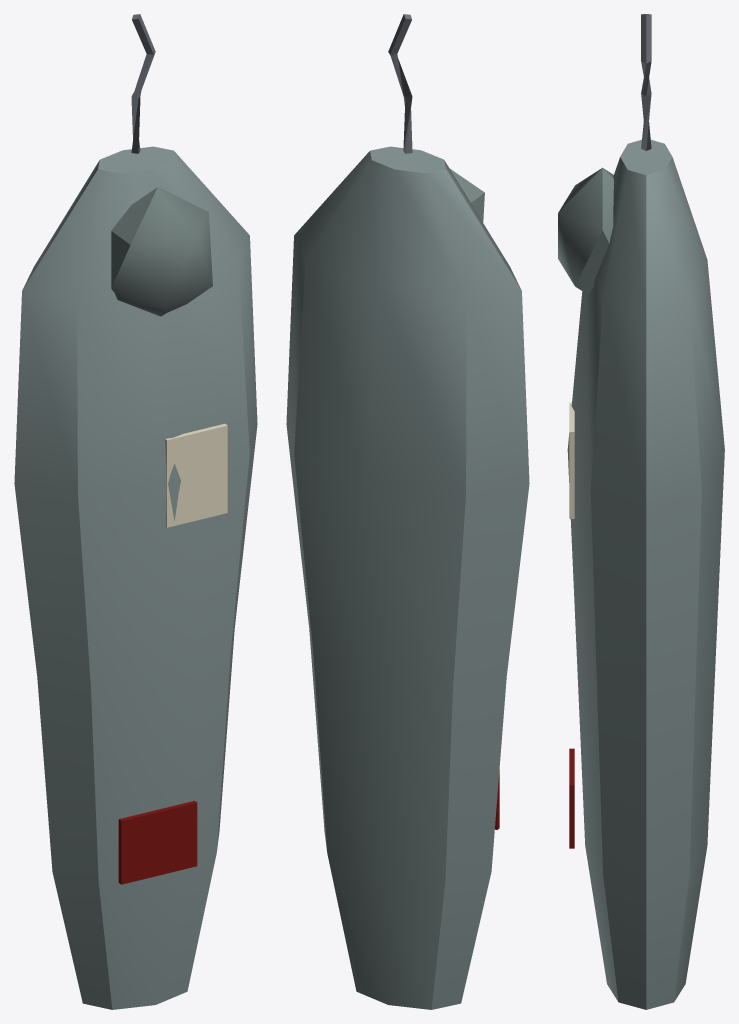
The model's file is garment_bag.glb.
3 views of the same model, side by side, from view 1: azimuth 30°, elevation 25°; view 2: azimuth 150°, elevation 25°; view 3: azimuth 270°, elevation 25° (orthographic).
Visible parts, largest first — view 1: garment_bag; view 2: garment_bag; view 3: garment_bag.
Part boxes in pixels (x1=…): garment_bag: x1=14, y1=14, x2=257, y2=1009; garment_bag: x1=286, y1=14, x2=529, y2=1009; garment_bag: x1=558, y1=14, x2=724, y2=1009.
Size of the model in its own units: 0.64 by 2.45 by 0.3821.
